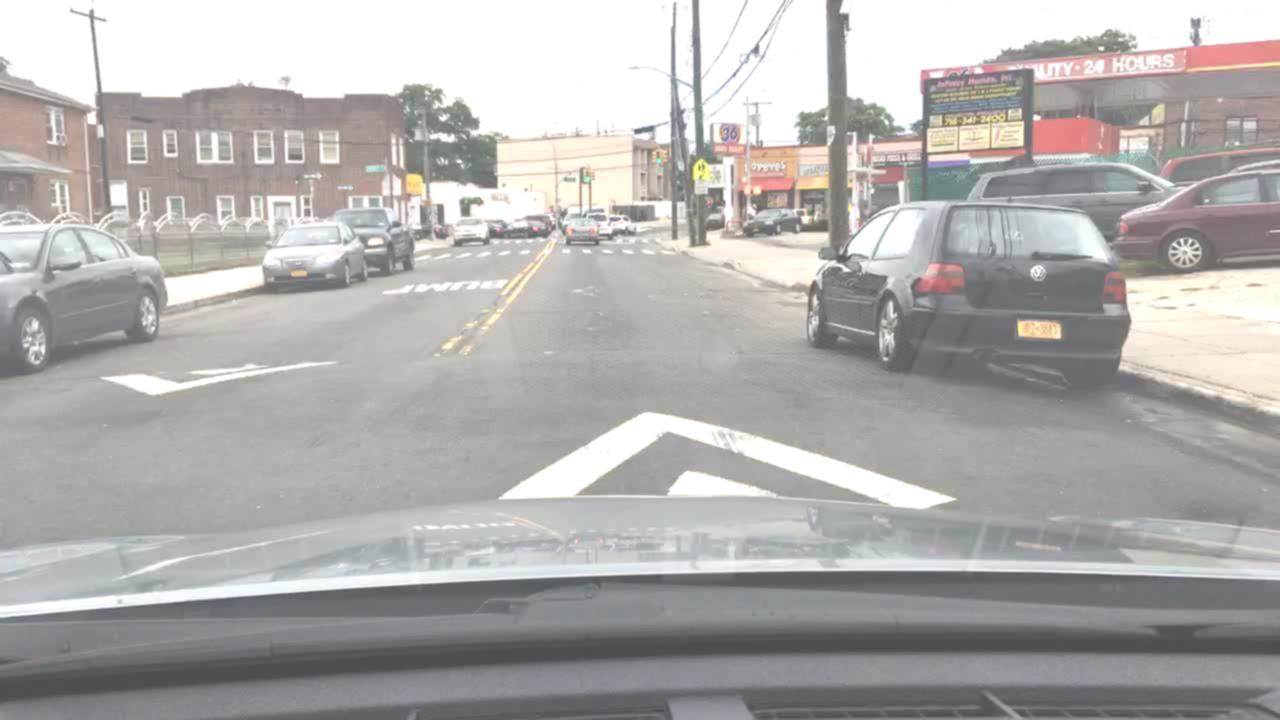Volkswagen: (1027, 260, 1048, 287)
